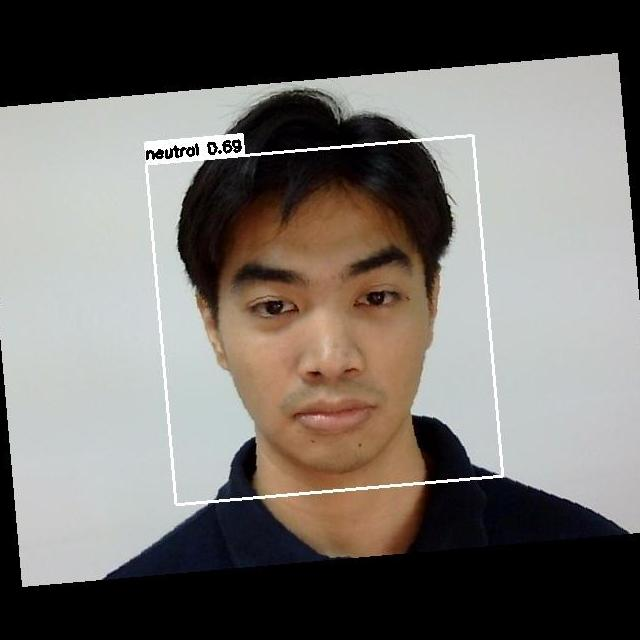Fear: (200, 241, 442, 441)
